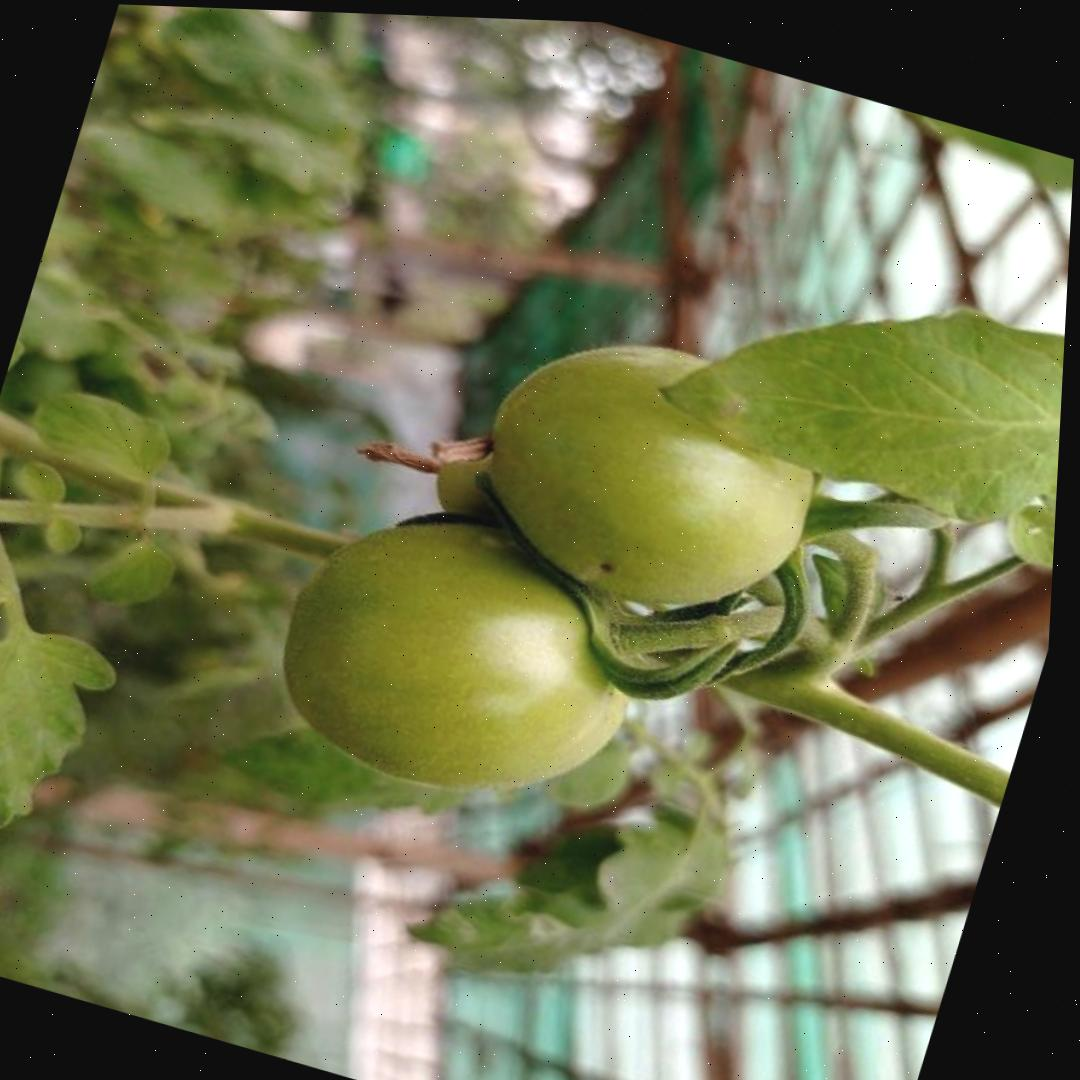mentah: (246, 472, 677, 842), (447, 301, 854, 646)
